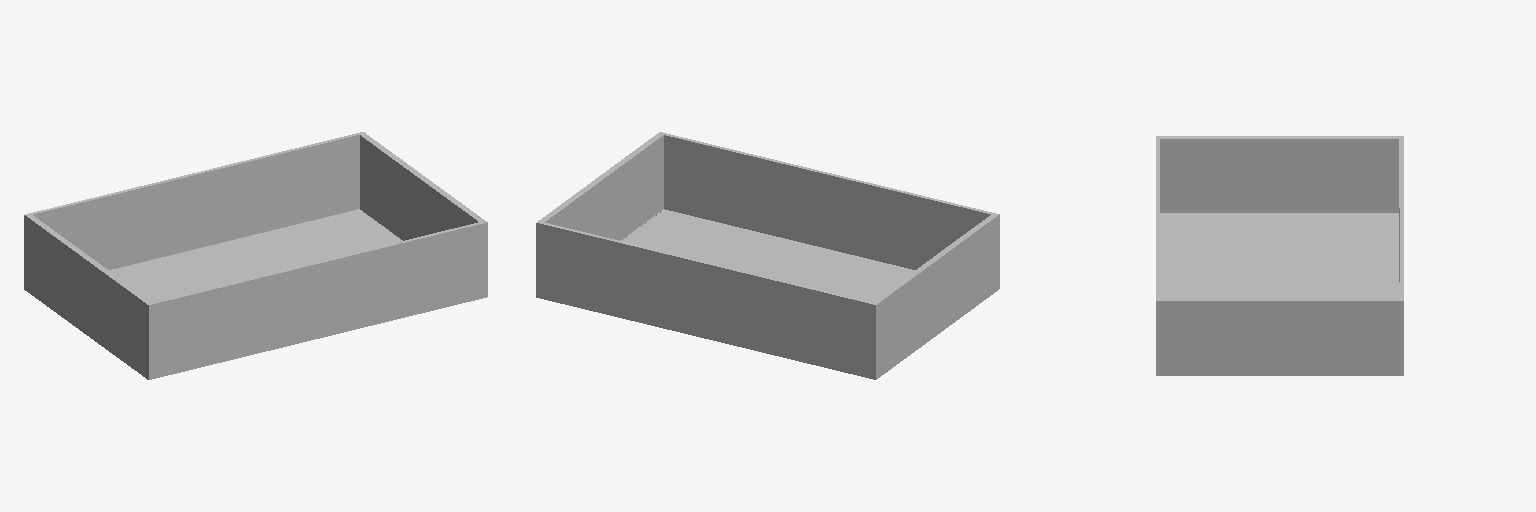
Rendered from Room7.obj.
3 views of the same model, side by side, from view 1: azimuth 30°, elevation 25°; view 2: azimuth 150°, elevation 25°; view 3: azimuth 270°, elevation 25° (orthographic).
Visible parts, largest first — view 1: jorge.001, Plane; view 2: jorge.001, Plane; view 3: jorge.001, Plane.
Boxes of the visible parts, <box> form: jorge.001: <box>24,132,487,379</box>; Plane: <box>109,209,402,301</box>; jorge.001: <box>536,132,999,379</box>; Plane: <box>621,209,914,301</box>; jorge.001: <box>1156,136,1403,375</box>; Plane: <box>1160,213,1399,297</box>.
Size of the model in its own units: 28.38 by 5.99 by 17.99.